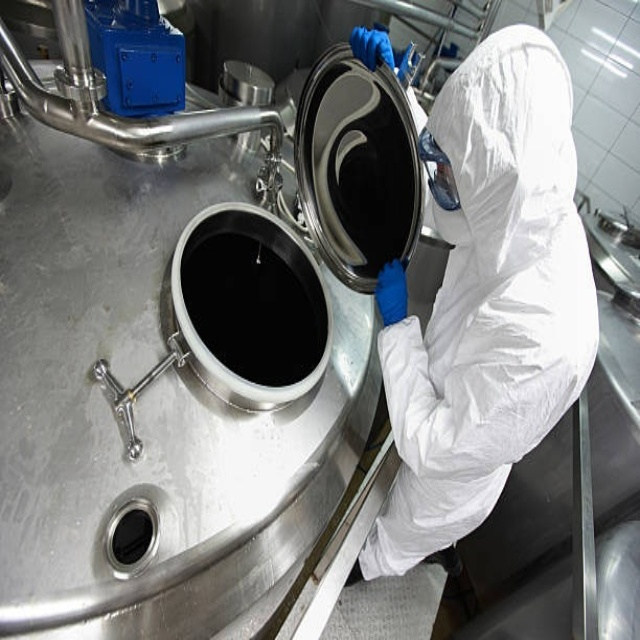Gafas: (418, 129, 460, 212)
Guantes: (372, 254, 414, 326), (350, 17, 397, 77)
Mascara: (429, 182, 476, 253)
